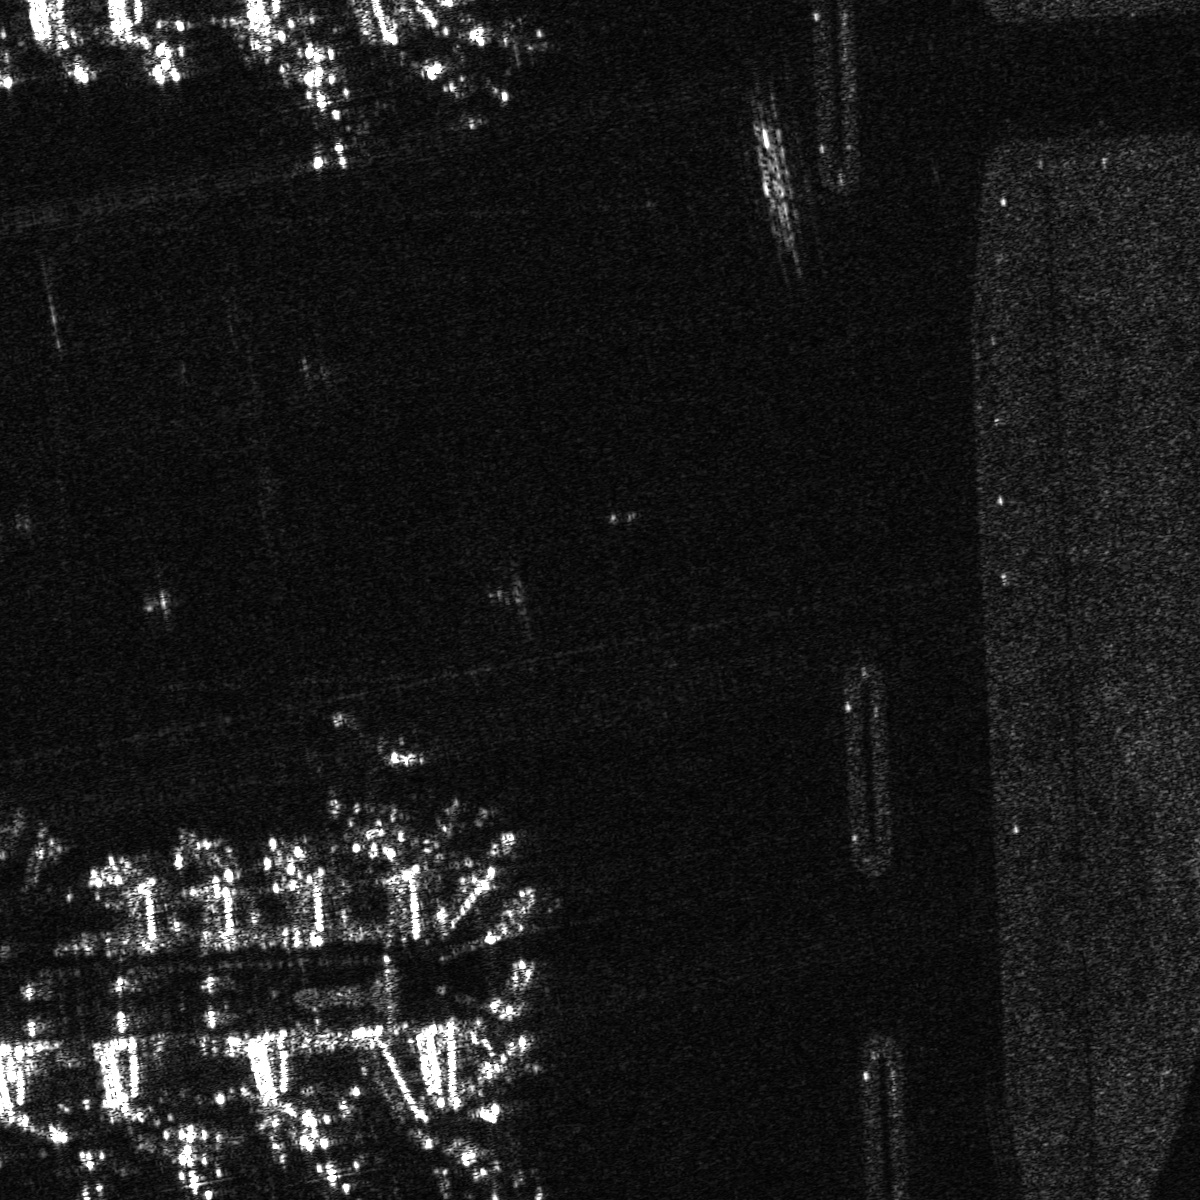A220: (325, 736, 427, 845), (51, 1141, 131, 1199)
A320/321: (279, 66, 373, 176), (459, 11, 552, 73)
Boeing737: (423, 1129, 537, 1199), (412, 51, 526, 114)
Boeing787: (138, 1137, 248, 1199)
other: (289, 1126, 389, 1199)
